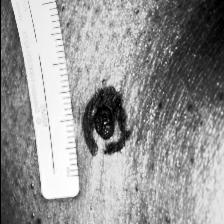Unclassified: (90, 93, 130, 173)
